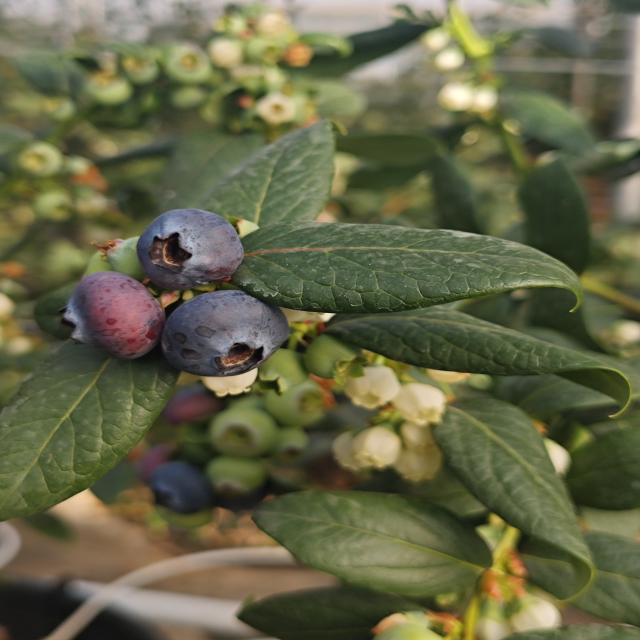ripe: (159, 288, 292, 376), (125, 205, 248, 292), (138, 454, 225, 518)
